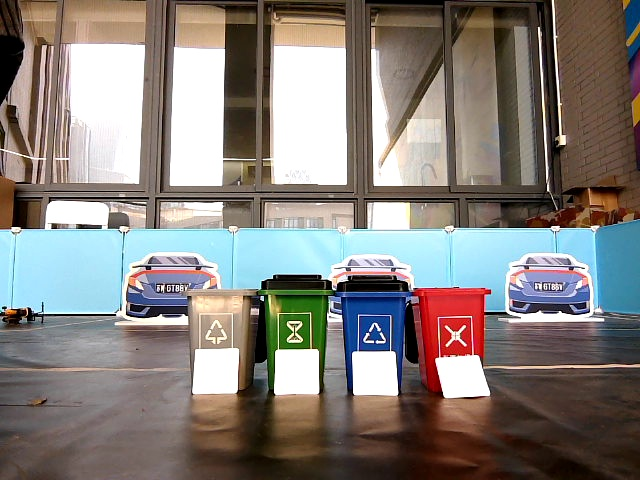blue_close: (341, 275, 402, 348)
green_close: (264, 274, 325, 345)
grey_open: (189, 289, 253, 348)
red_open: (420, 287, 482, 353)
